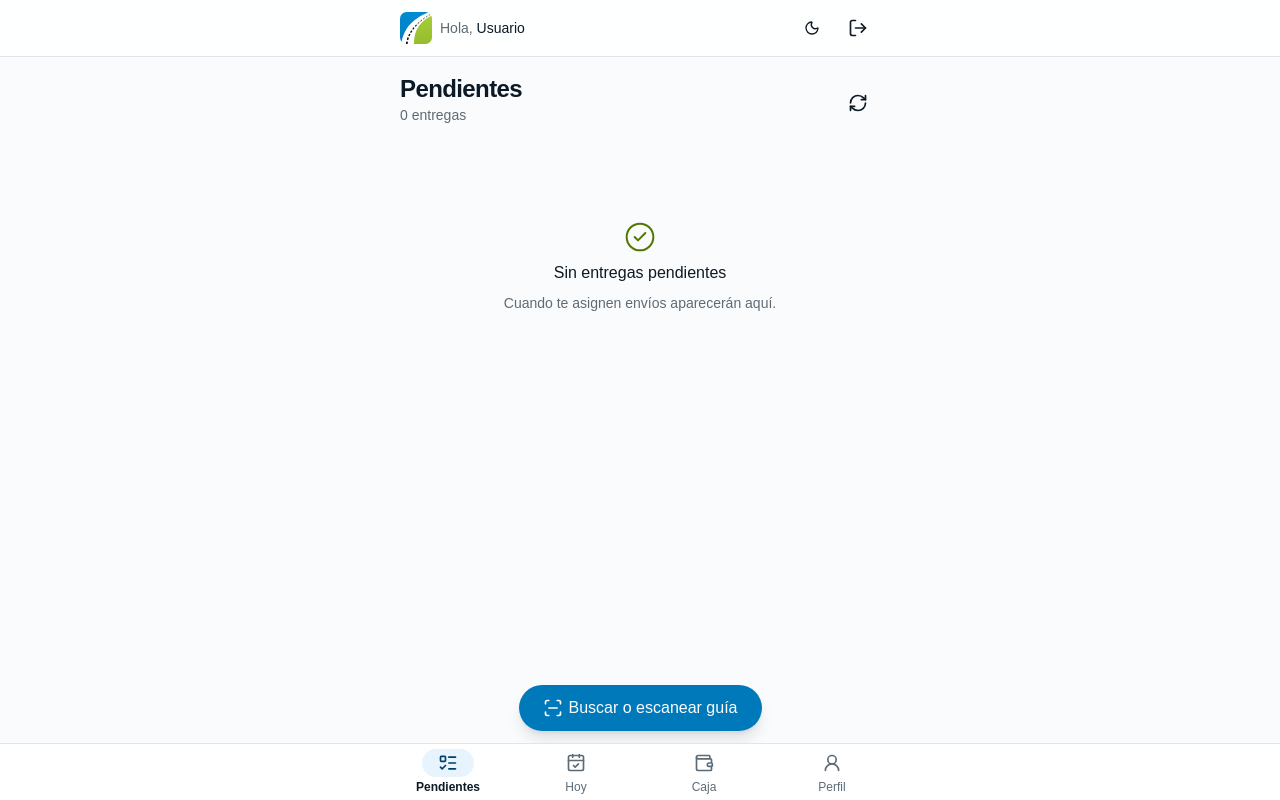
Test: Rutas por rol (contrato v12) › el REPARTIDOR edita su perfil desde la pestaña «Perfil»
This screenshot has width=1280, height=800.
Click the link "Perfil".
click(832, 774)  # box [818,753,846,794]
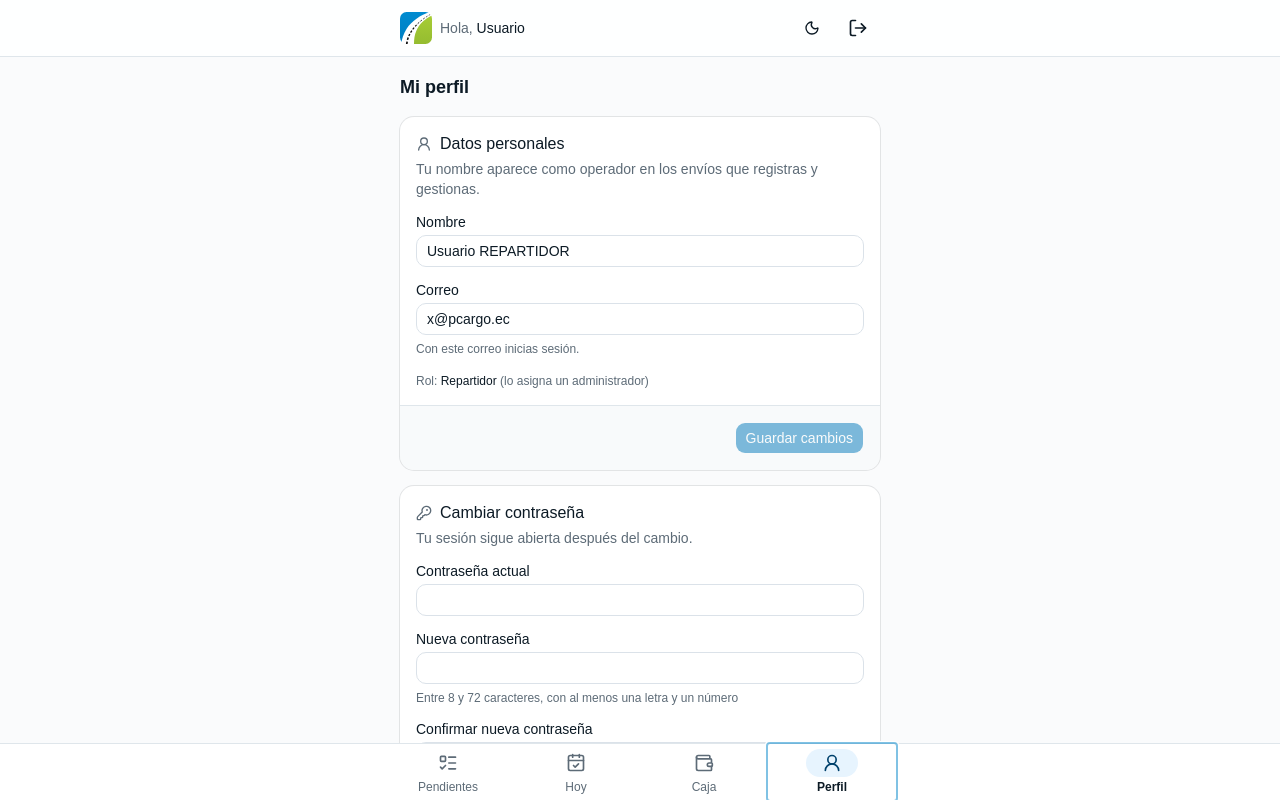
Result: the heading "Mi perfil" is shown at [400,77,469,97]
Result: the field labelled "Nombre" holds "Usuario REPARTIDOR" at [416,235,864,267]
Result: the password field labelled "Contraseña actual" is shown at [416,584,864,616]
